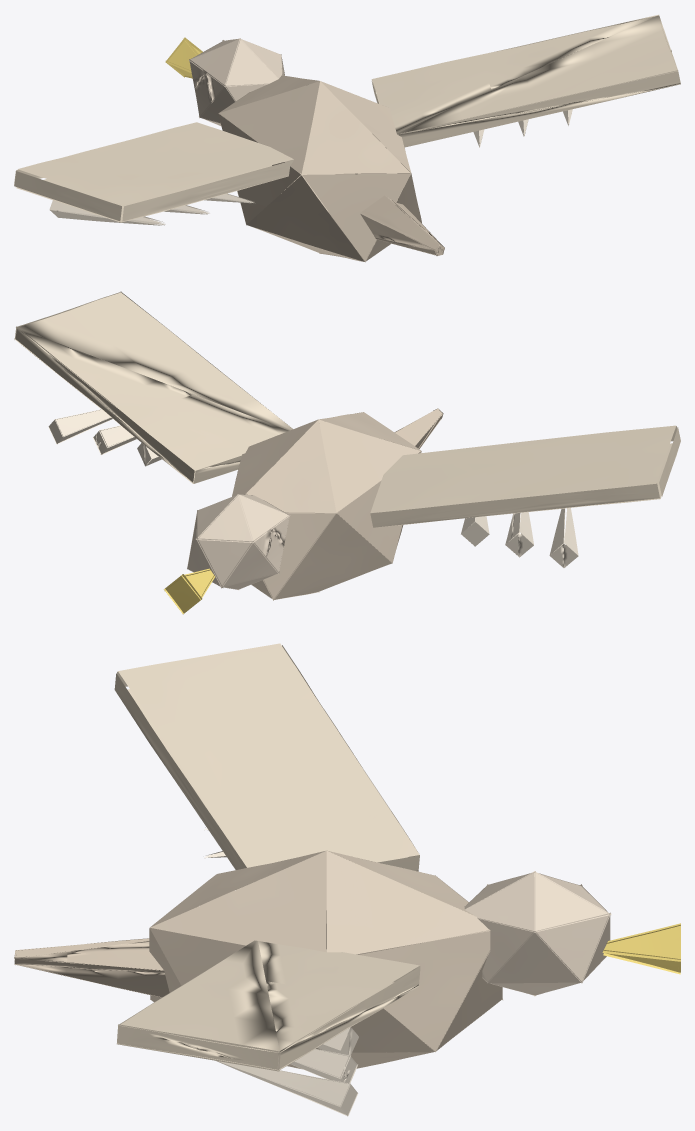
Rendered from harpy.glb.
3 renders of one model, top to bottom at view 1: azimuth 30°, elevation 25°; view 2: azimuth 150°, elevation 25°; view 3: azimuth 270°, elevation 25°, orthographic. The views are drawn at different scales.
Parts seen in each view (by area): view 1: HarpyBody; view 2: HarpyBody; view 3: HarpyBody.
Part boxes in pixels (x1,y1,x2,y2): HarpyBody: (14, 14, 680, 262); HarpyBody: (14, 291, 680, 614); HarpyBody: (14, 643, 680, 1116).
Size of the model in its own units: 2.33 by 0.6066 by 1.6.
